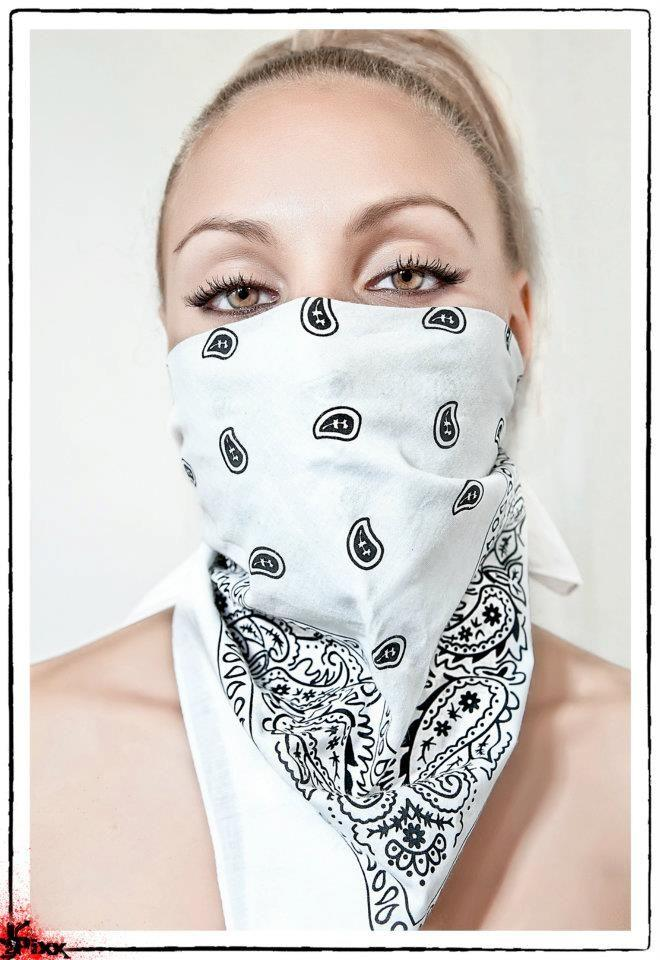scarf-kerchief: (140, 293, 553, 960)
